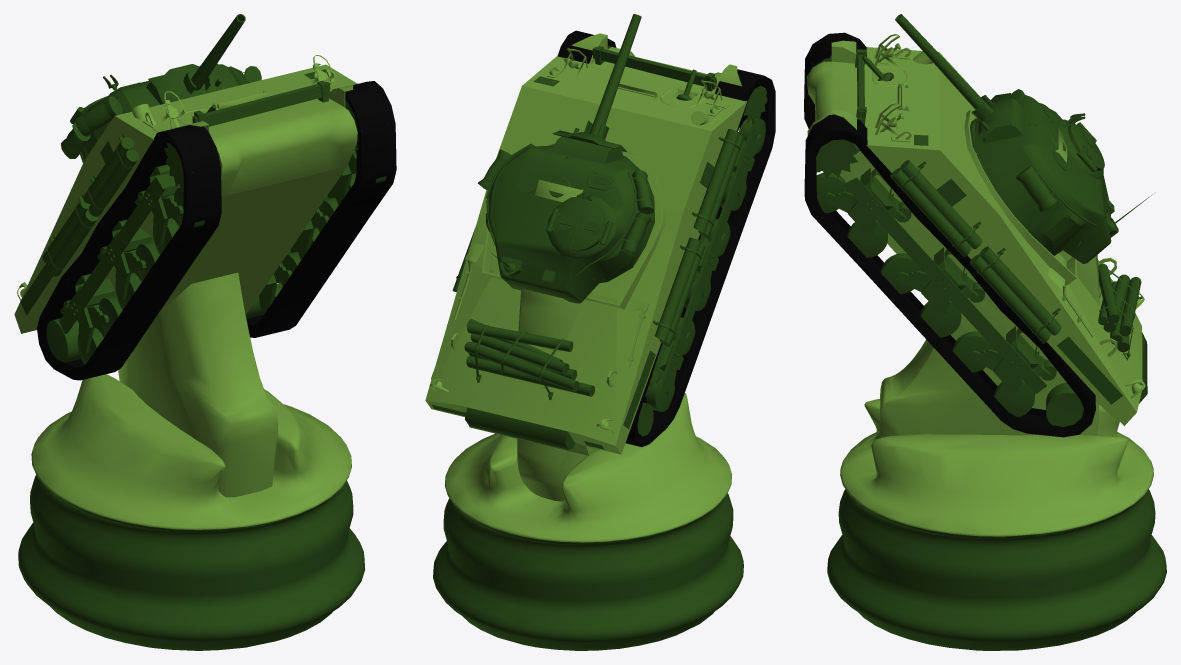
The model's file is Cavalo Branco.FBX.
3 views of the same model, side by side, from view 1: azimuth 30°, elevation 25°; view 2: azimuth 150°, elevation 25°; view 3: azimuth 270°, elevation 25° (orthographic). The views are drawn at different scales.
Parts seen in each view (by area): view 1: pasted__pasted__polySurface32, base, chain, wheel, mech2, wood, bar, mech1, Barrel, wood bar, turret top, turret01 (+2 smaller); view 2: pasted__pasted__polySurface32, base, turret01, wood, chain, bar, wheel, turret top, Barrel, wood bar, door2, sticker (+5 smaller); view 3: pasted__pasted__polySurface32, base, chain, turret01, wood, wheel, bar, mech1, mech2, Barrel, props, sticker (+5 smaller).
Part boxes in pixels (<box>): pasted__pasted__polySurface32: <box>18,90,365,650</box>; base: <box>14,55,358,351</box>; chain: <box>37,81,396,380</box>; wheel: <box>46,149,386,365</box>; mech2: <box>78,105,356,354</box>; wood: <box>42,141,137,276</box>; bar: <box>51,80,335,333</box>; mech1: <box>60,147,355,334</box>; Barrel: <box>148,14,245,104</box>; wood bar: <box>192,81,330,126</box>; turret top: <box>61,66,261,158</box>; turret01: <box>74,64,238,162</box>; pasted__pasted__polySurface32: <box>433,83,743,650</box>; base: <box>425,33,747,455</box>; turret01: <box>486,128,654,303</box>; wood: <box>453,129,744,396</box>; chain: <box>557,30,775,446</box>; bar: <box>460,46,759,449</box>; wheel: <box>637,118,765,436</box>; turret top: <box>478,148,654,277</box>; Barrel: <box>552,14,641,152</box>; wood bar: <box>592,47,716,88</box>; door2: <box>570,203,612,251</box>; sticker: <box>431,76,714,449</box>; pasted__pasted__polySurface32: <box>827,83,1166,650</box>; base: <box>807,34,1145,426</box>; chain: <box>804,32,1095,437</box>; turret01: <box>970,97,1155,263</box>; wood: <box>891,161,1141,346</box>; wheel: <box>816,172,1083,426</box>; bar: <box>844,49,1147,403</box>; mech1: <box>848,168,1051,380</box>; mech2: <box>823,55,1021,403</box>; Barrel: <box>895,14,1012,140</box>; props: <box>990,145,1063,227</box>; sticker: <box>914,135,1122,404</box>.
Size of the model in its own units: 99.58 by 197 by 111.
